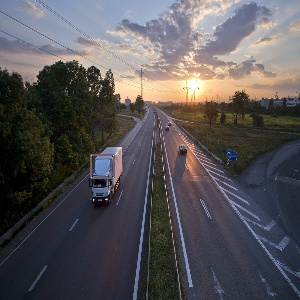square: (88, 152, 117, 181)
